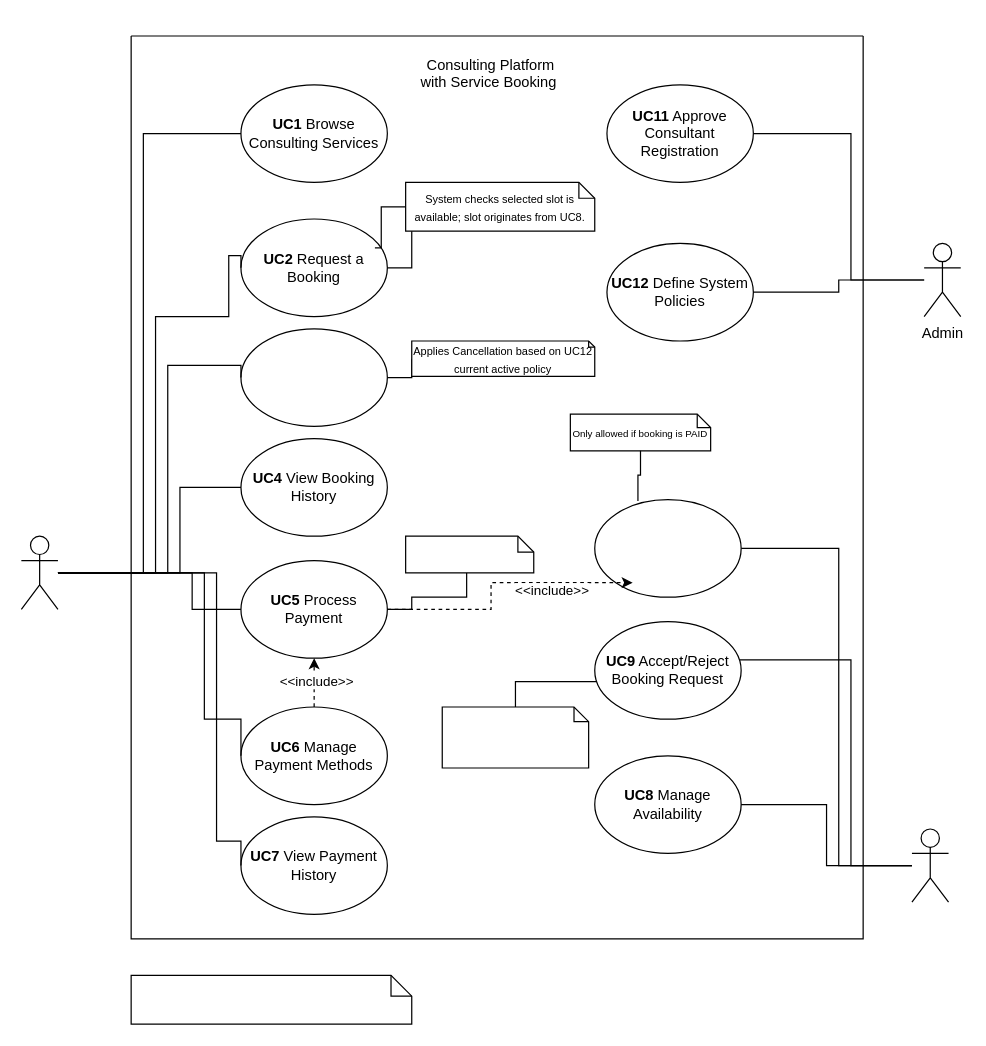
The diagram is 986 pixels wide and 1046 high, and some of its shapes have lost their labels. The shapes that lost their labels are listed below. From the top down, each one's box as (x1, y1, x2, y2) in pixels, then its label:
(240, 328, 387, 426): UC3 Cancel a Booking
(404, 535, 534, 573): Validates payment method
(594, 498, 741, 597): UC10 Complete a Booking
(20, 535, 58, 609): Client
(441, 706, 589, 768): Accept → booking CONFIRMED; Reject → booking REJECTED
(911, 828, 949, 902): Consultant
(130, 974, 412, 1024): Notes added to explain role of each function better
